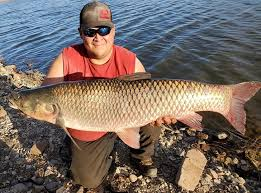carp: (7, 72, 261, 152)
